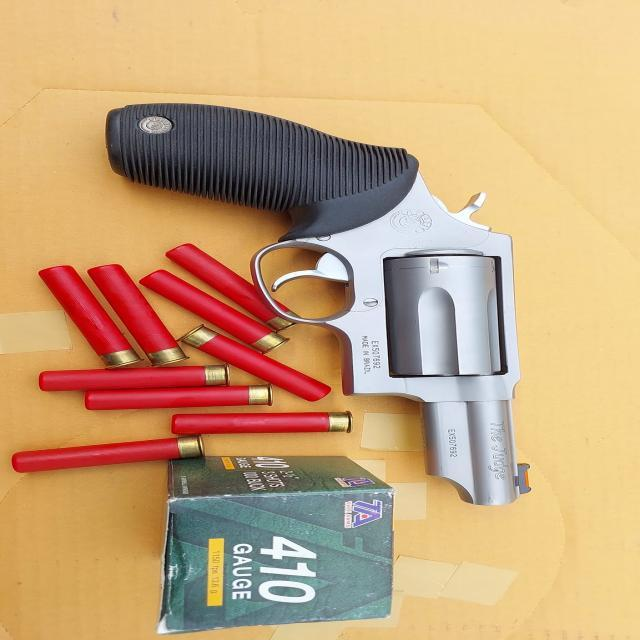revolver: (15, 92, 614, 516)
